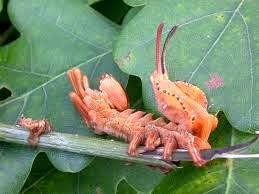Lobster Moth: (70, 63, 220, 174)
